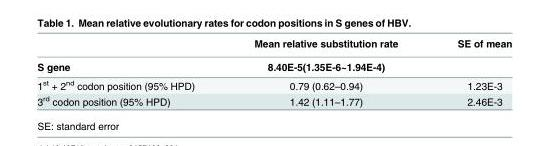table: (36, 36, 511, 106)
table column: (223, 36, 427, 106), (36, 36, 223, 106), (427, 36, 511, 106)
table column header: (36, 36, 511, 75)
table row: (36, 54, 511, 75), (36, 36, 511, 54), (36, 75, 511, 92), (36, 92, 511, 106)
table spanning cell: (223, 36, 427, 75), (36, 36, 223, 75), (427, 36, 511, 75)
